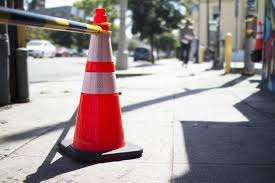cones: (61, 7, 142, 161)
